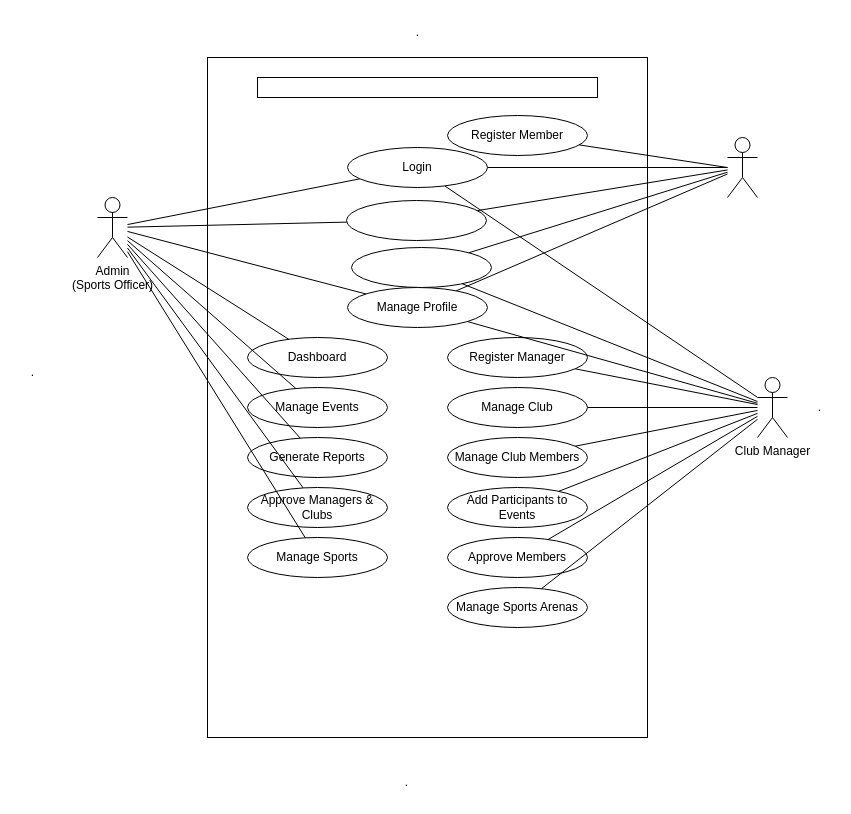
This 851x814 diagram has some shape labels left out. The shapes that lost their labels are listed below. From the top down, each one's centre as x and y in pixels, then its label:
At point 427,87: "Club Connect - Sports Management System".
At point 742,167: "Club Member".
At point 416,220: "View Club Details".
At point 421,267: "View Event Details".
